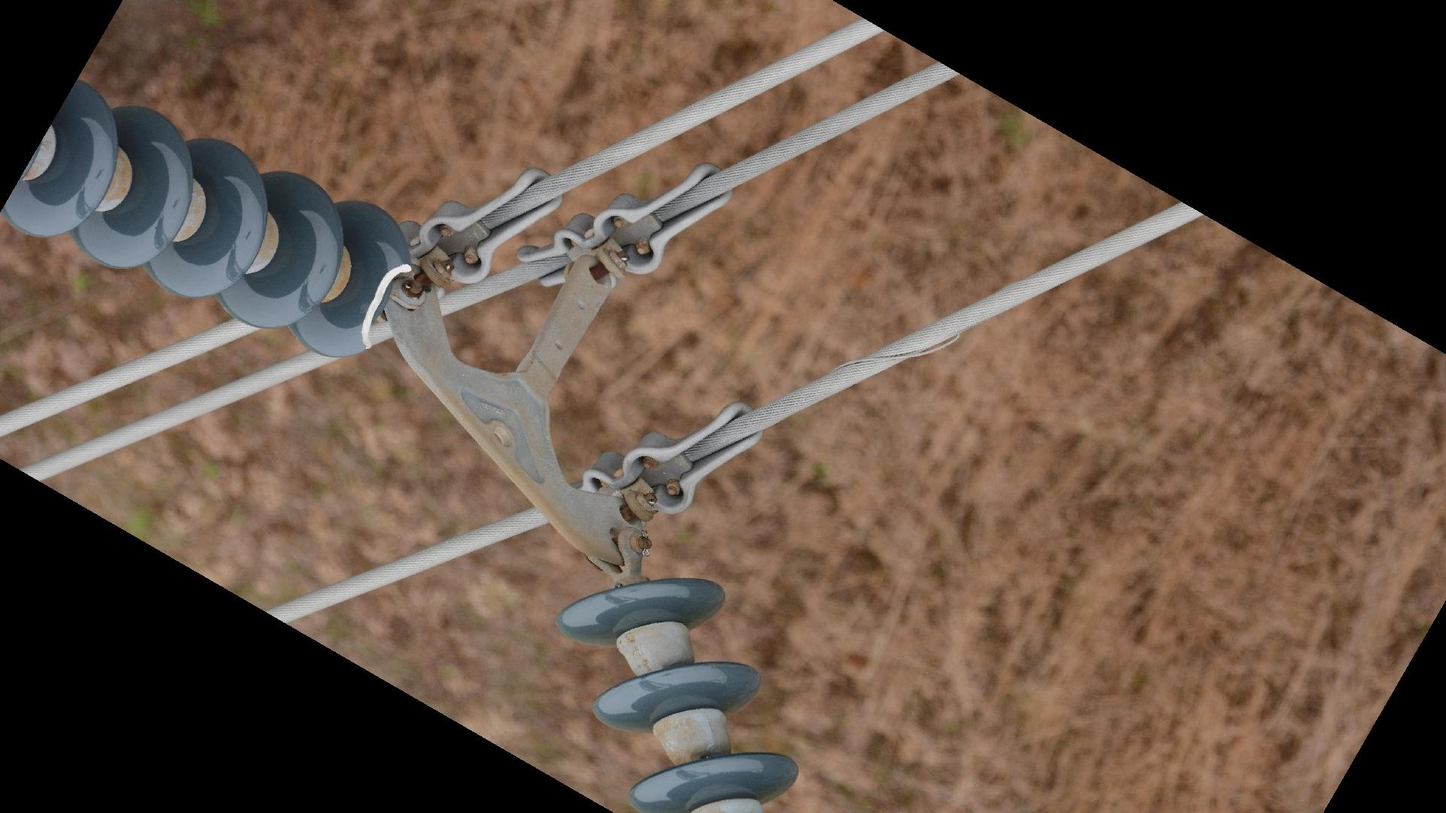insulator: (1, 74, 426, 372), (551, 569, 806, 813)
insulator_breakage: (354, 252, 419, 357)
